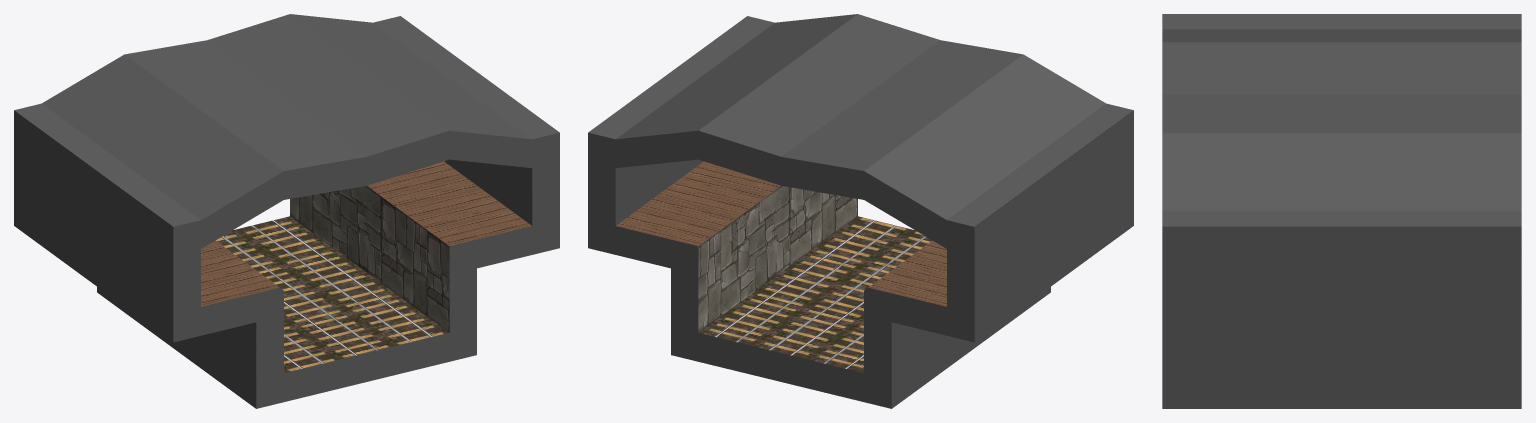
File: ground_002.fbx
3 renders of one model, left to right at view 1: azimuth 30°, elevation 25°; view 2: azimuth 150°, elevation 25°; view 3: azimuth 270°, elevation 25°, orthographic. The views are drawn at different scales.
Parts seen in each view (by area): view 1: ground.002; view 2: ground.002; view 3: ground.002.
Part boxes in pixels (x1,y1,x2,y2): ground.002: (14, 14, 559, 408); ground.002: (588, 14, 1133, 408); ground.002: (1162, 14, 1521, 408).
Bounding box in the file's own units: 10 × 14 × 8.
